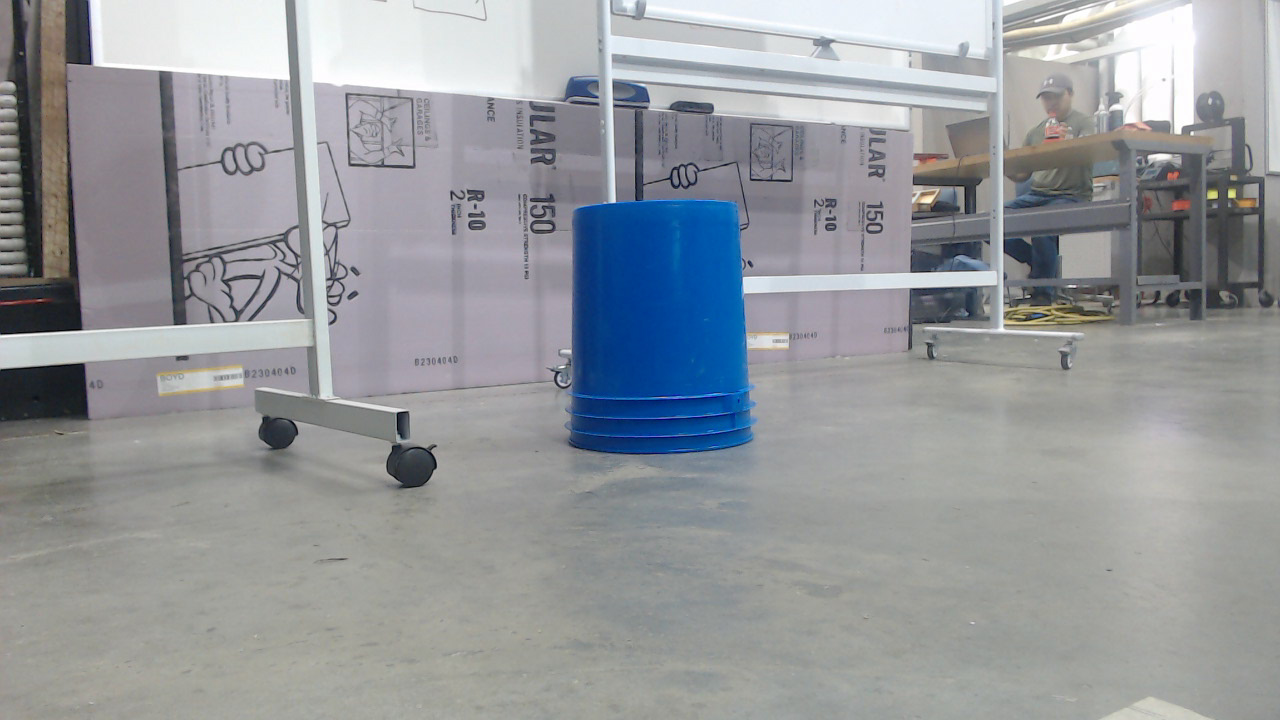blue_bucket: (564, 200, 766, 465)
